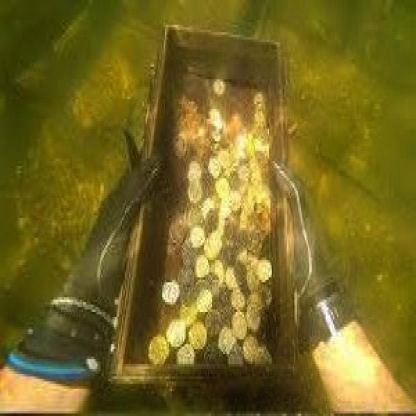metal: (146, 77, 276, 369)
